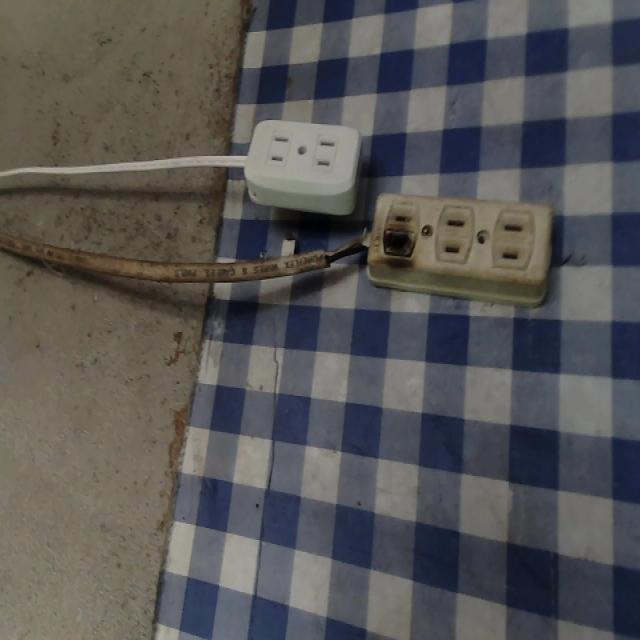-: (376, 221, 423, 264)
